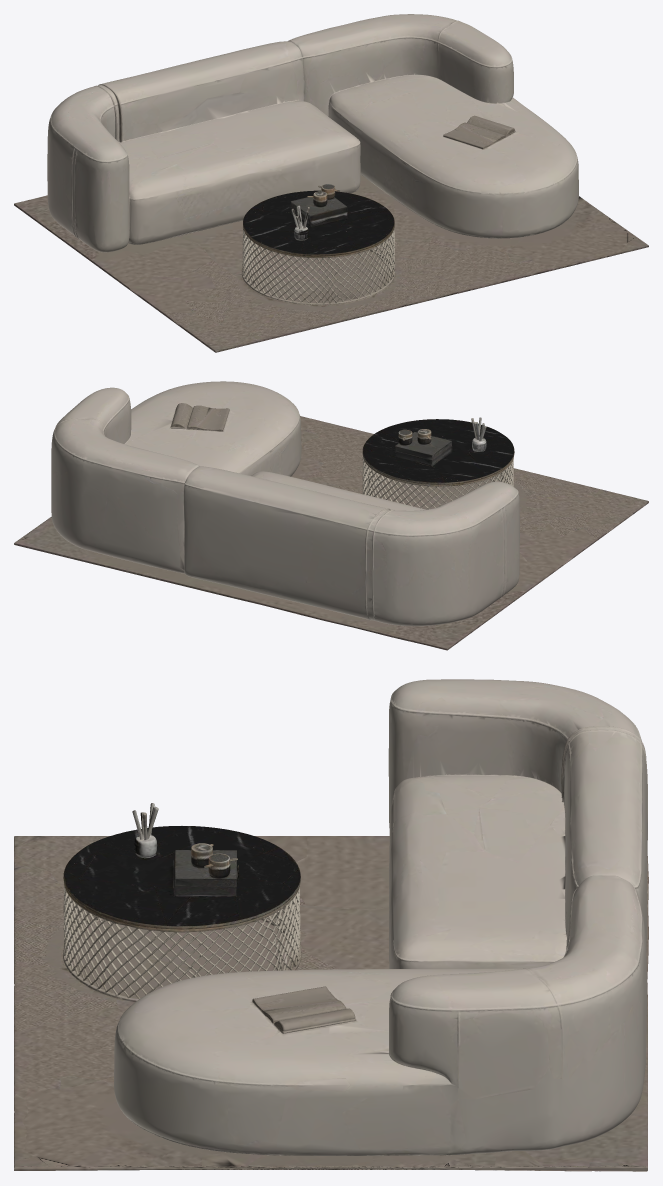
File: torque-berlin-5-seater-l-shaped-sofa-rhs-beige-modern-tight-.glb
3 views of the same model, one above another, from view 1: azimuth 30°, elevation 25°; view 2: azimuth 150°, elevation 25°; view 3: azimuth 270°, elevation 25° (orthographic). The views are drawn at different scales.
Size of the model in its own units: 1.9 by 0.457 by 1.54.
1 material, 1 textured.
